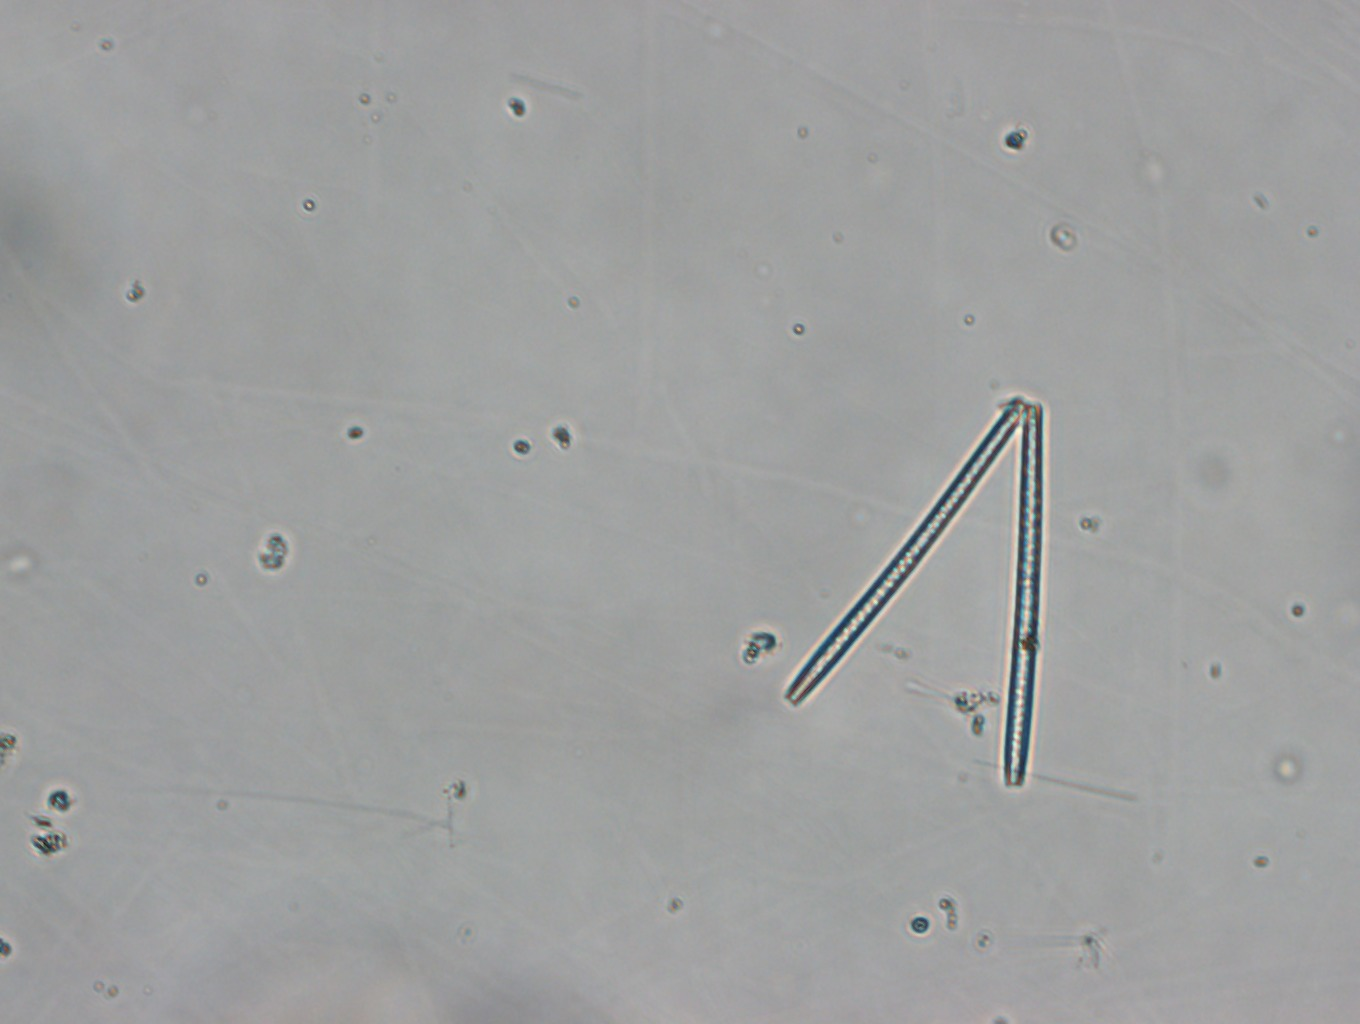thalassionema frauenfeldii: (783, 394, 1042, 791)
